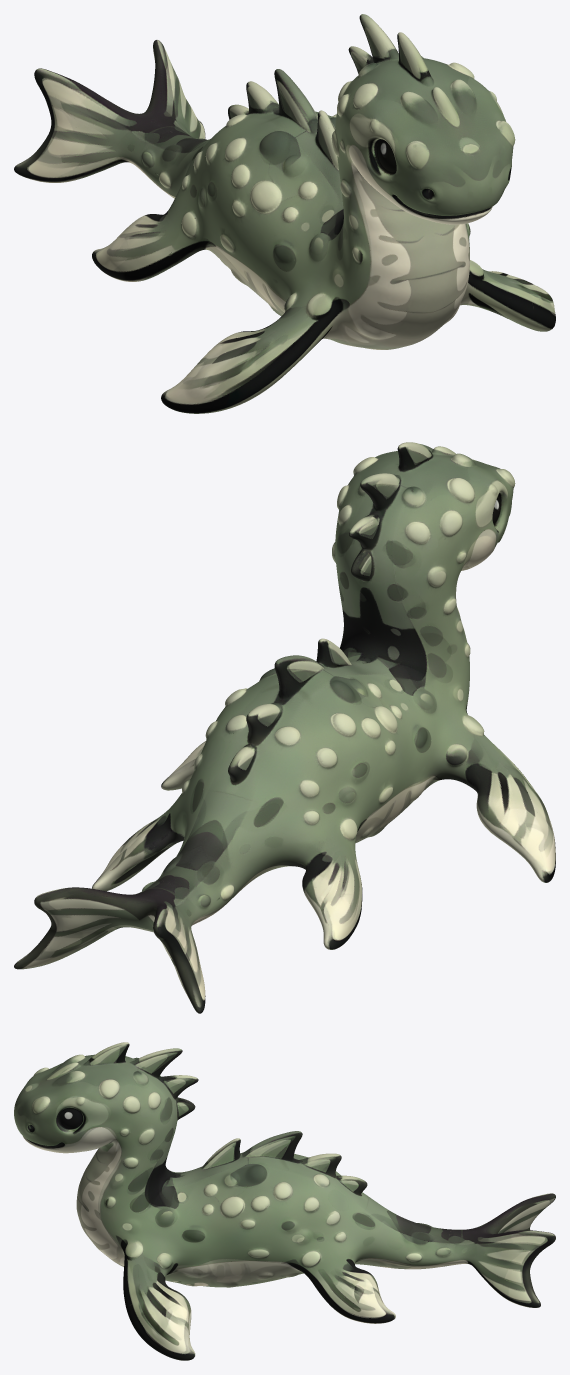
File: Nessie.fbx
The picture shows the model from 3 angles, top to bottom: view 1: azimuth 30°, elevation 25°; view 2: azimuth 150°, elevation 25°; view 3: azimuth 270°, elevation 25°; orthographic projection. The views are drawn at different scales.
Visible parts, largest first — view 1: Mesh_0; view 2: Mesh_0; view 3: Mesh_0.
Part boxes in pixels (<box>): Mesh_0: <box>14,14,555,413</box>; Mesh_0: <box>14,442,555,1013</box>; Mesh_0: <box>14,1042,555,1360</box>.
Size of the model in its own units: 110 by 98.18 by 190.
Materials: 1 (1 with a texture image).
